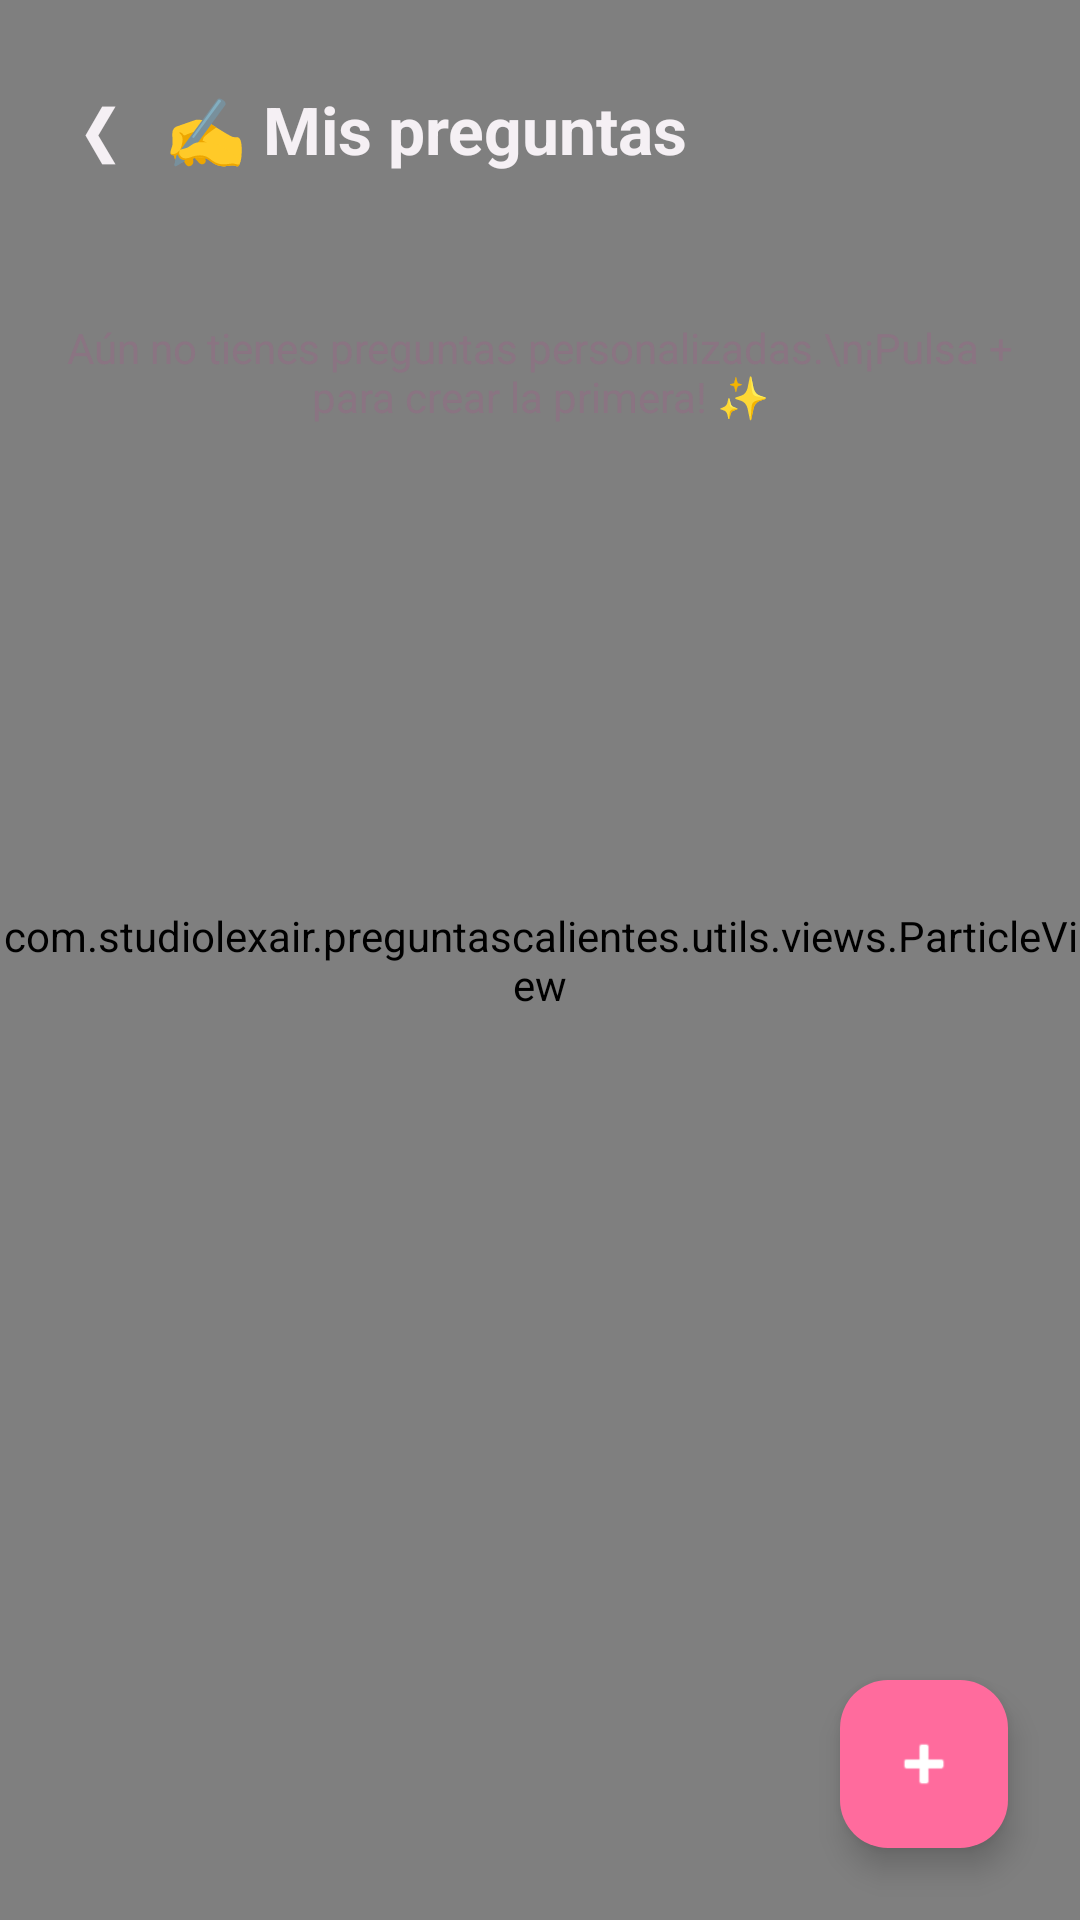

Where to tap for icons on this 1080×1920 app screen, as (x=x, y=y):
Agregar: (x=924, y=1764)
